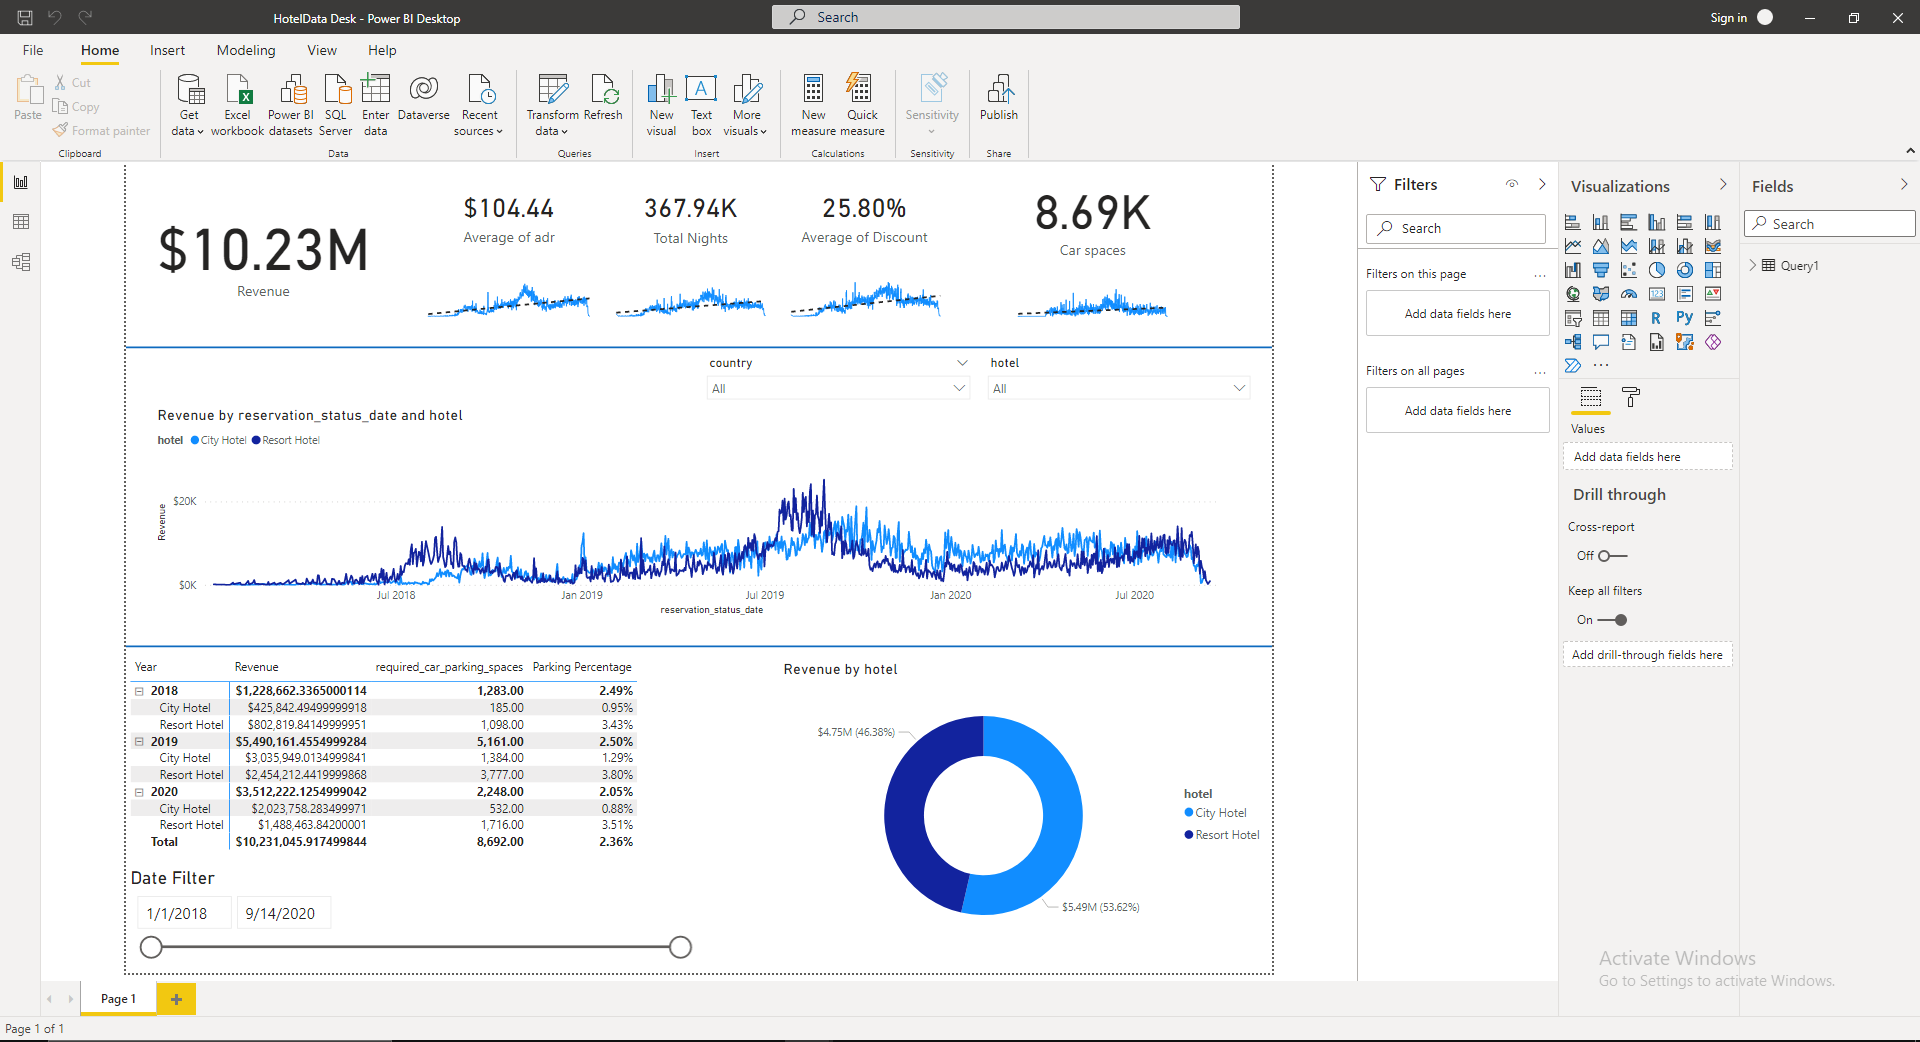

The page's visual inventory and layout, read from the dashboard file:
{"tool":"powerbi","page":{"name":"Page 1","canvas":[1300,920],"ordinal":0},"visuals":[{"type":"shape","box":[0,70.3,1300,280.2],"z":0},{"type":"shape","box":[0,409.5,1300,280.2],"z":1000},{"type":"card","fields":{"Values":["Sum(Query1.Revenue)"]},"box":[19.3,0,273.4,200.8],"z":2000},{"type":"card","fields":{"Values":["Avg(Query1.adr)"]},"box":[327.8,0,213,119.6],"z":3000},{"type":"card","fields":{"Values":["Query1.Total Nights"]},"box":[540.8,1,199.4,118.7],"z":4000},{"type":"card","fields":{"Values":["Avg(Query1.Discount)"]},"box":[739.2,0,195.5,119.6],"z":5000},{"type":"lineChart","fields":{"Category":["Query1.reservation_status_date"],"Y":["Sum(Query1.Revenue)"],"Series":["Query1.hotel"]},"box":[30.6,276.8,1226.3,241.6],"z":6000},{"type":"slicer","fields":{"Values":["Query1.country"]},"box":[648.9,214.4,318.8,70.3],"z":7000},{"type":"slicer","fields":{"Values":["Query1.hotel"]},"box":[967.6,214.6,318.1,70],"z":8000},{"type":"lineChart","fields":{"Category":["Query1.reservation_status_date"],"Y":["Sum(Query1.adr)"]},"box":[327.8,118.7,213,62.2],"z":9000},{"type":"lineChart","fields":{"Category":["Query1.reservation_status_date"],"Y":["Query1.Total Nights"]},"box":[540.8,118.7,199.4,62.2],"z":10000},{"type":"lineChart","fields":{"Category":["Query1.reservation_status_date"],"Y":["Sum(Query1.Discount)"]},"box":[739.2,118.7,199.4,62.2],"z":11000},{"type":"card","fields":{"Values":["Sum(Query1.required_car_parking_spaces)"]},"box":[997,1,199.4,118.7],"z":12000},{"type":"lineChart","fields":{"Category":["Query1.reservation_status_date"],"Y":["Sum(Query1.required_car_parking_spaces)"]},"box":[997,119.6,199.4,62.2],"z":13000},{"type":"donutChart","fields":{"Y":["Sum(Query1.Revenue)"],"Category":["Query1.hotel"]},"box":[740.8,564.9,559.3,333.5],"z":14000},{"type":"pivotTable","fields":{"Rows":["Query1.reservation_status_date.Variation.Date Hierarchy.Year","Query1.hotel"],"Values":["Sum(Query1.Revenue)","Sum(Query1.required_car_parking_spaces)","Query1.Parking Percentage"]},"box":[0,557,648.9,237.1],"z":15000},{"type":"slicer","title":"Date Filter","fields":{"Values":["Query1.reservation_status_date"]},"box":[0,799.8,650,120.2],"z":16000}]}

Visuals, with their boxes on the page's 1300x920 design canvas (x1, y1, x2, y2). These are canvas units, not pixel positions in the 1920x1042 screenshot, which may show the page scaled, cropped or inside an application window:
shape: Rect(0, 70, 1300, 350)
shape: Rect(0, 410, 1300, 690)
card - Sum(Query1.Revenue): Rect(19, 0, 293, 201)
card - Avg(Query1.adr): Rect(328, 0, 541, 120)
card - Query1.Total Nights: Rect(541, 1, 740, 120)
card - Avg(Query1.Discount): Rect(739, 0, 935, 120)
lineChart - Query1.reservation_status_date x Sum(Query1.Revenue): Rect(31, 277, 1257, 518)
slicer - Query1.country: Rect(649, 214, 968, 285)
slicer - Query1.hotel: Rect(968, 215, 1286, 285)
lineChart - Query1.reservation_status_date x Sum(Query1.adr): Rect(328, 119, 541, 181)
lineChart - Query1.reservation_status_date x Query1.Total Nights: Rect(541, 119, 740, 181)
lineChart - Query1.reservation_status_date x Sum(Query1.Discount): Rect(739, 119, 939, 181)
card - Sum(Query1.required_car_parking_spaces): Rect(997, 1, 1196, 120)
lineChart - Query1.reservation_status_date x Sum(Query1.required_car_parking_spaces): Rect(997, 120, 1196, 182)
donutChart - Sum(Query1.Revenue) x Query1.hotel: Rect(741, 565, 1300, 898)
pivotTable - Query1.reservation_status_date.Variation.Date Hierarchy.Year x Query1.hotel: Rect(0, 557, 649, 794)
"Date Filter" slicer: Rect(0, 800, 650, 920)
